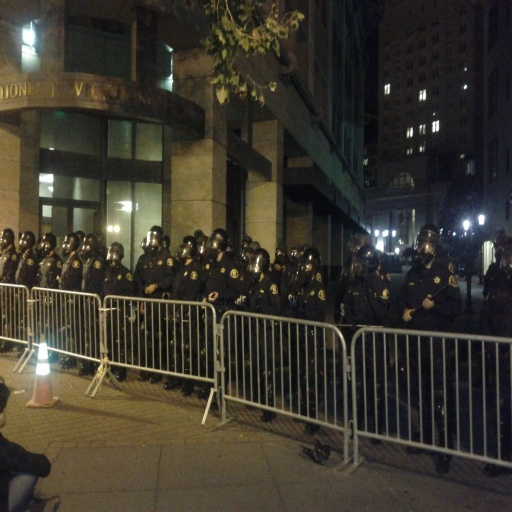hand: (400, 307, 416, 323), (421, 295, 434, 309), (144, 282, 156, 296), (199, 296, 208, 310), (209, 292, 218, 302), (140, 300, 144, 314)
